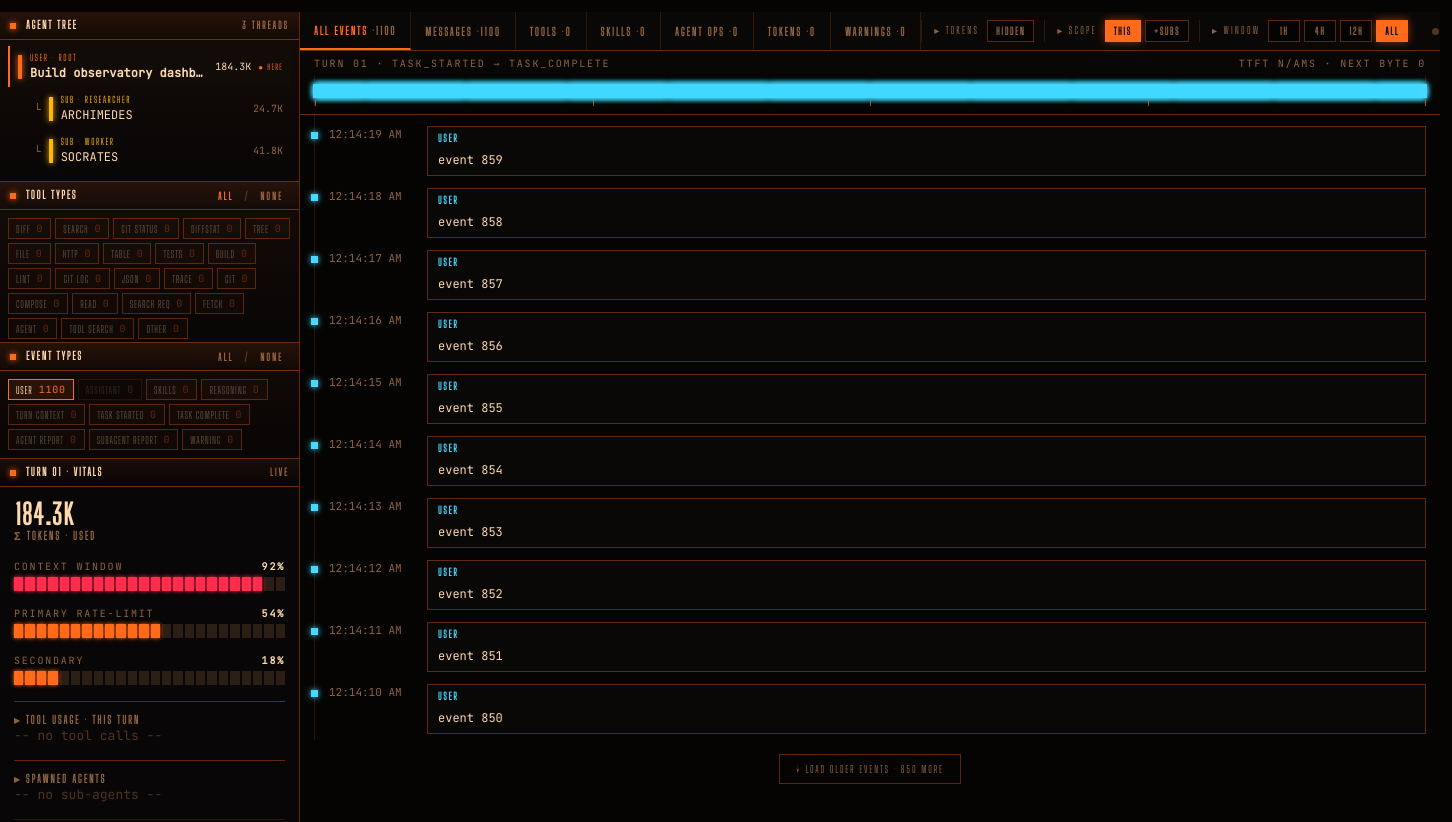
Test case: TimelineView · +SUBS scope › renders only the most recent 250 events and reveals older ones on demand
(page scrolled)
Click the button "↓ Load older events · 850 more": (870, 769) x1=779 y1=754 x2=961 y2=784
(page scrolled)
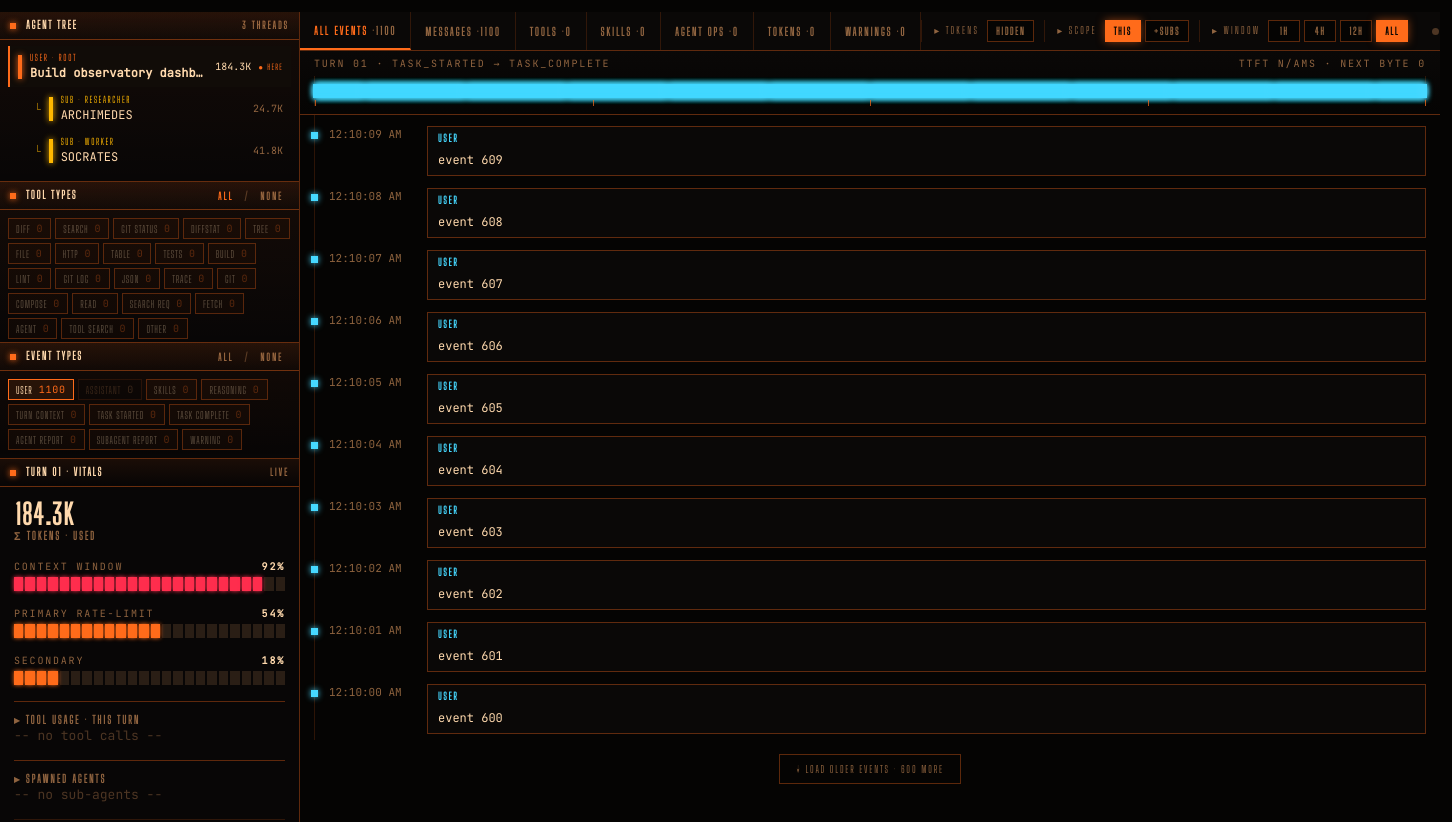
Result: the text "event 600" is shown at x1=438 y1=710 x2=503 y2=726
